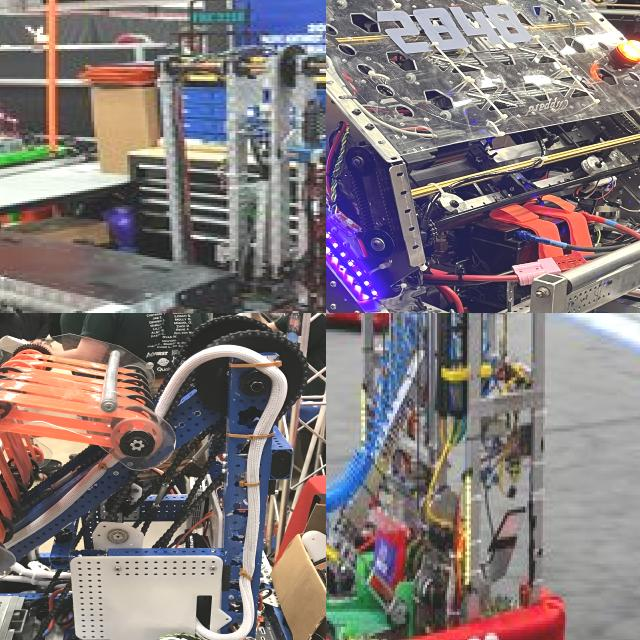FRC-Robots: (0, 320, 326, 640), (326, 0, 640, 313), (326, 313, 604, 640), (64, 20, 326, 313)
